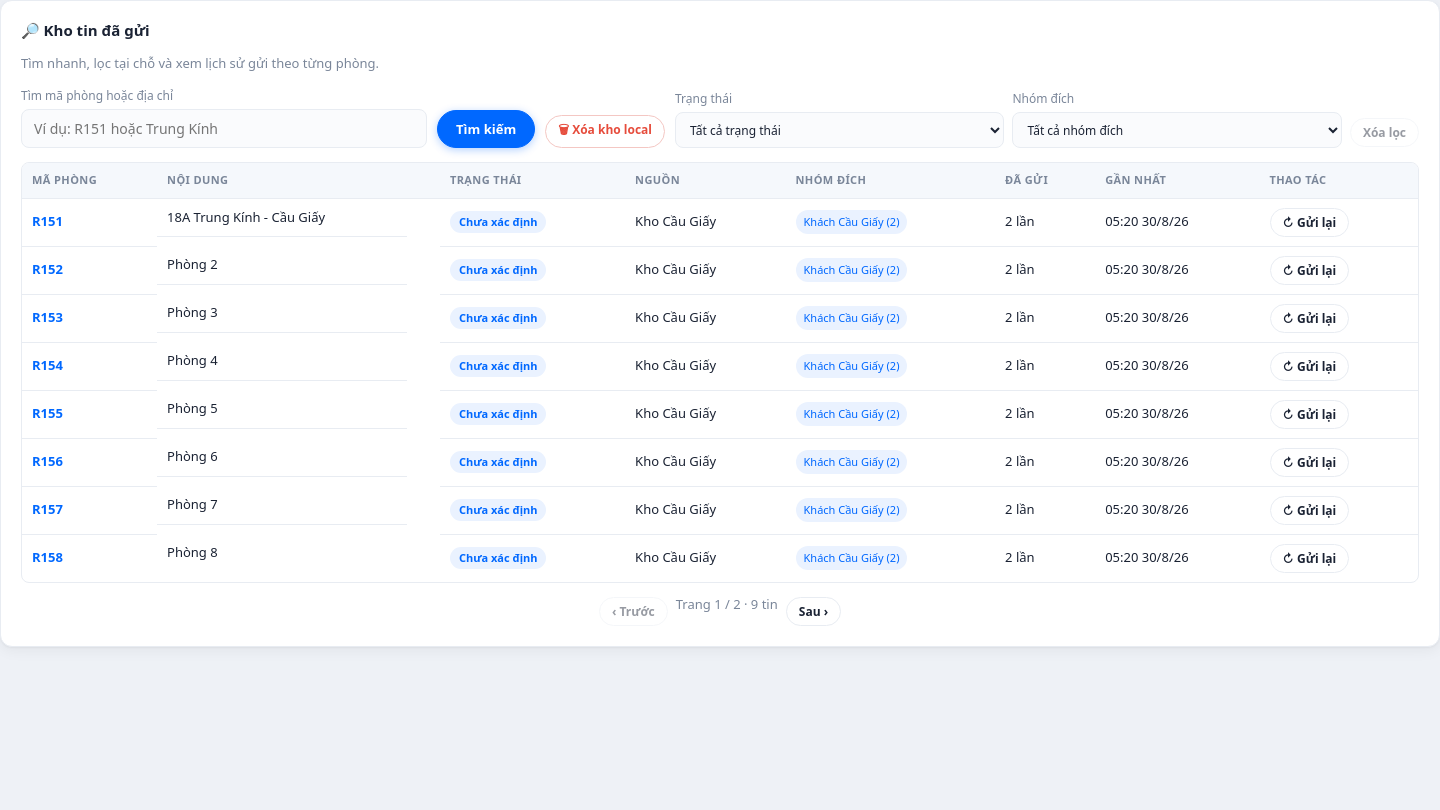
Test case: SentRoomSearch › gửi lại một tin từ kho tới các nhóm đã lưu sau khi xác nhận
The image size is (1440, 810).
Expected: the text "R151" is shown, [32,212,63,230]
Click the button with aria-label "Gửi lại R151".
click(1309, 222)  # box [1270,208,1349,236]
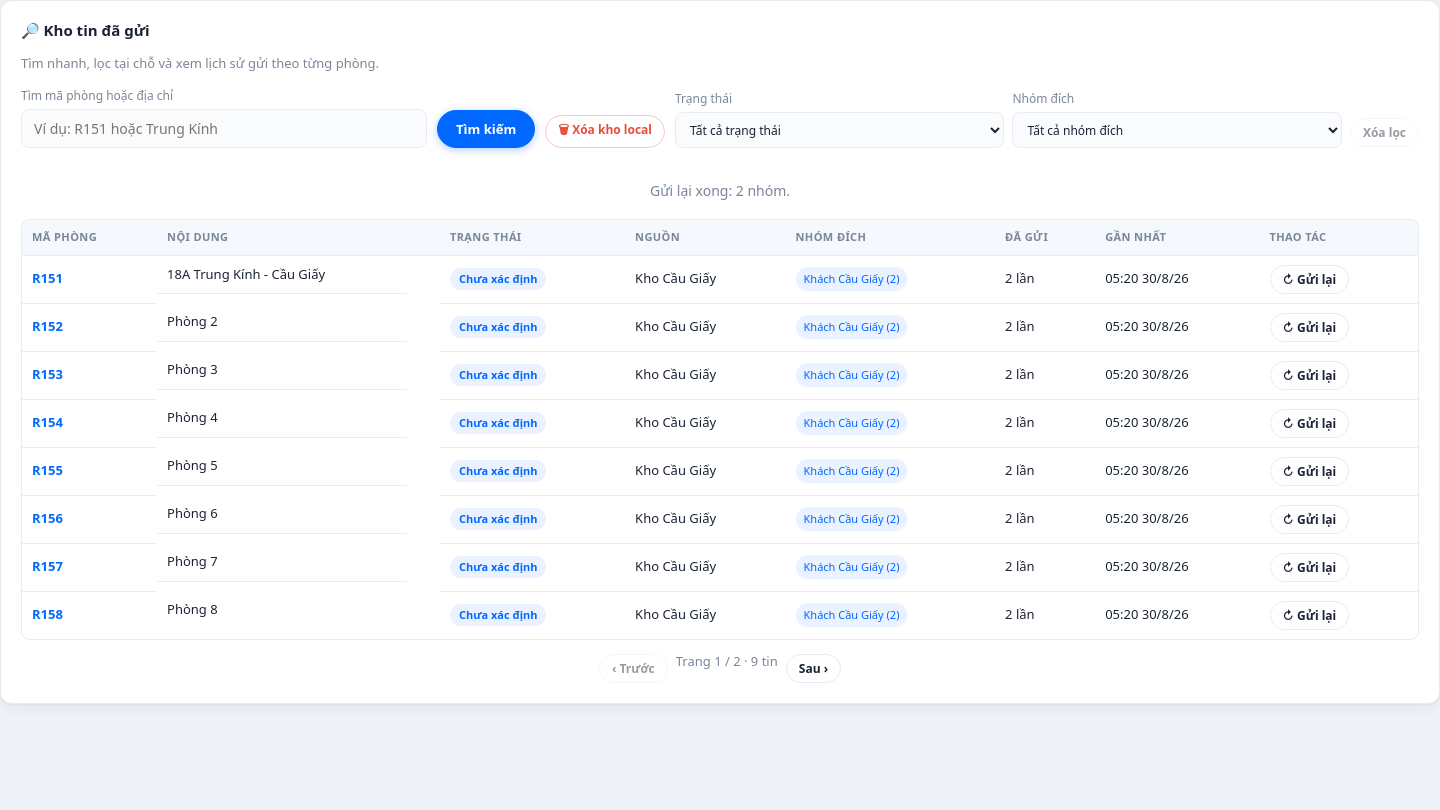
Expected: the message shows "Gửi lại xong: 2 nhóm", [650,181,790,200]
